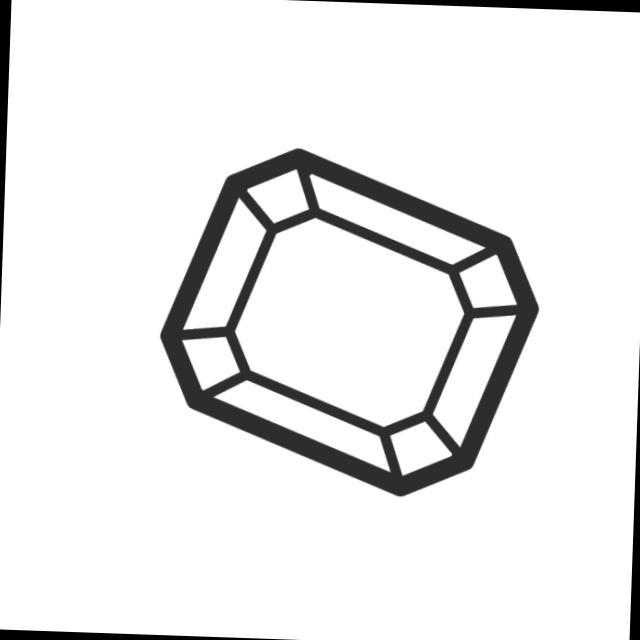emerald: (150, 138, 553, 506)
